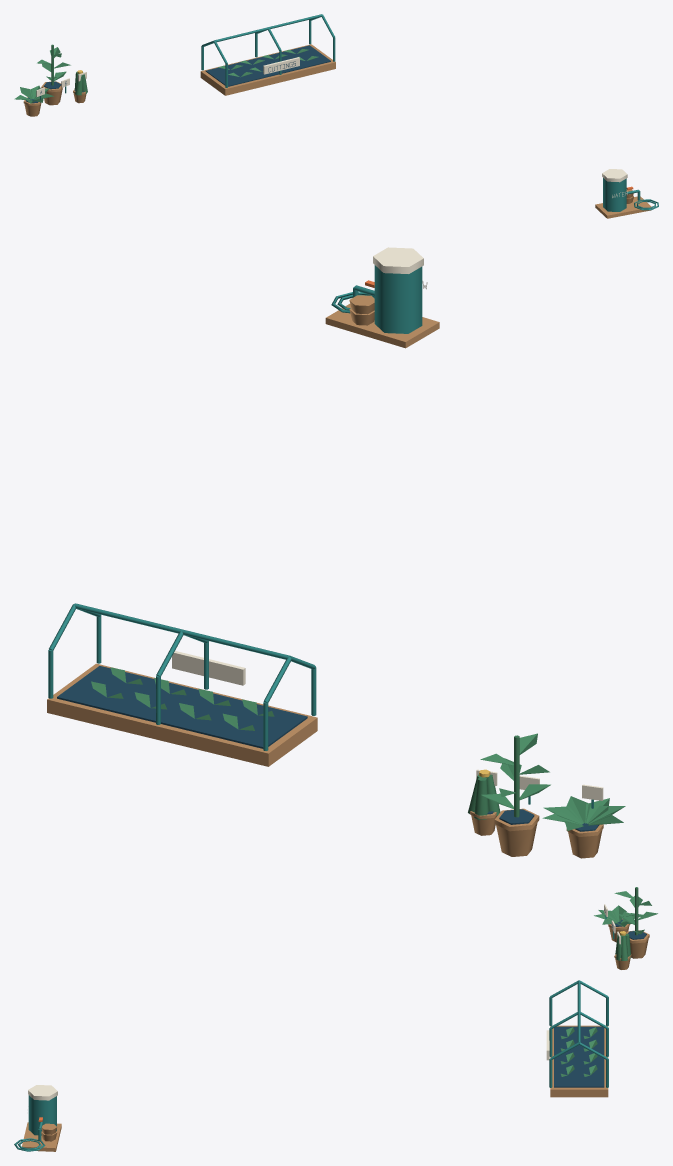
The model's file is visionx.glb.
3 views of the same model, one above another, from view 1: azimuth 30°, elevation 25°; view 2: azimuth 150°, elevation 25°; view 3: azimuth 270°, elevation 25° (orthographic). The views are drawn at different scales.
Parts seen in each view (by area): view 1: static_detail_wood, static_detail_teal, static_detail_navy, static_detail_leaf, static_detail_ivory; view 2: static_detail_wood, static_detail_navy, static_detail_teal, static_detail_leaf, static_detail_ivory; view 3: static_detail_navy, static_detail_teal, static_detail_wood, static_detail_leaf, static_detail_ivory.
Part boxes in pixels (x1=…): static_detail_wood: x1=23, y1=44, x2=651, y2=218; static_detail_teal: x1=40, y1=14, x2=658, y2=211; static_detail_navy: x1=25, y1=45, x2=330, y2=103; static_detail_leaf: x1=14, y1=44, x2=318, y2=103; static_detail_ivory: x1=36, y1=57, x2=627, y2=197; static_detail_wood: x1=47, y1=295, x2=603, y2=858; static_detail_navy: x1=57, y1=666, x2=599, y2=831; static_detail_teal: x1=48, y1=265, x2=593, y2=808; static_detail_leaf: x1=91, y1=667, x2=625, y2=830; static_detail_ivory: x1=172, y1=247, x2=603, y2=800; static_detail_navy: x1=554, y1=909, x2=646, y2=1087; static_detail_teal: x1=14, y1=915, x2=614, y2=1151; static_detail_wood: x1=22, y1=919, x2=649, y2=1151; static_detail_leaf: x1=560, y1=887, x2=657, y2=1076; static_detail_ivory: x1=28, y1=904, x2=620, y2=1100.
Size of the model in its own units: 11.75 by 1.63 by 14.1.
